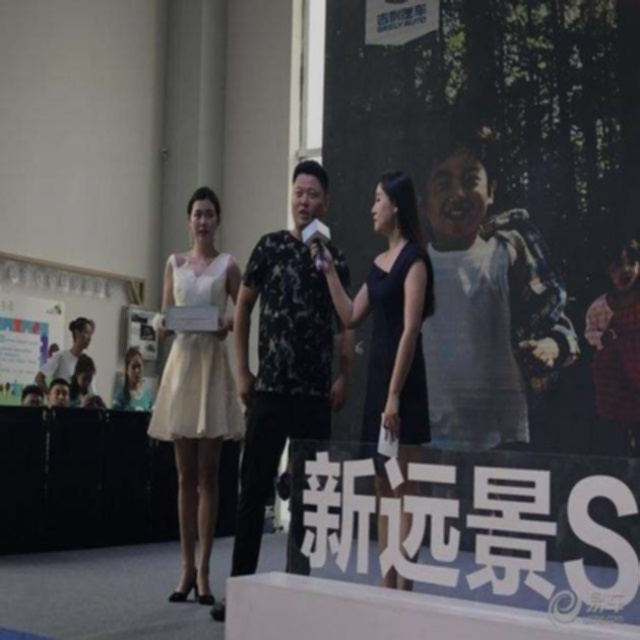Sin_Casco_Mascarrilla: (371, 169, 416, 240), (289, 159, 328, 231), (185, 186, 223, 245)
